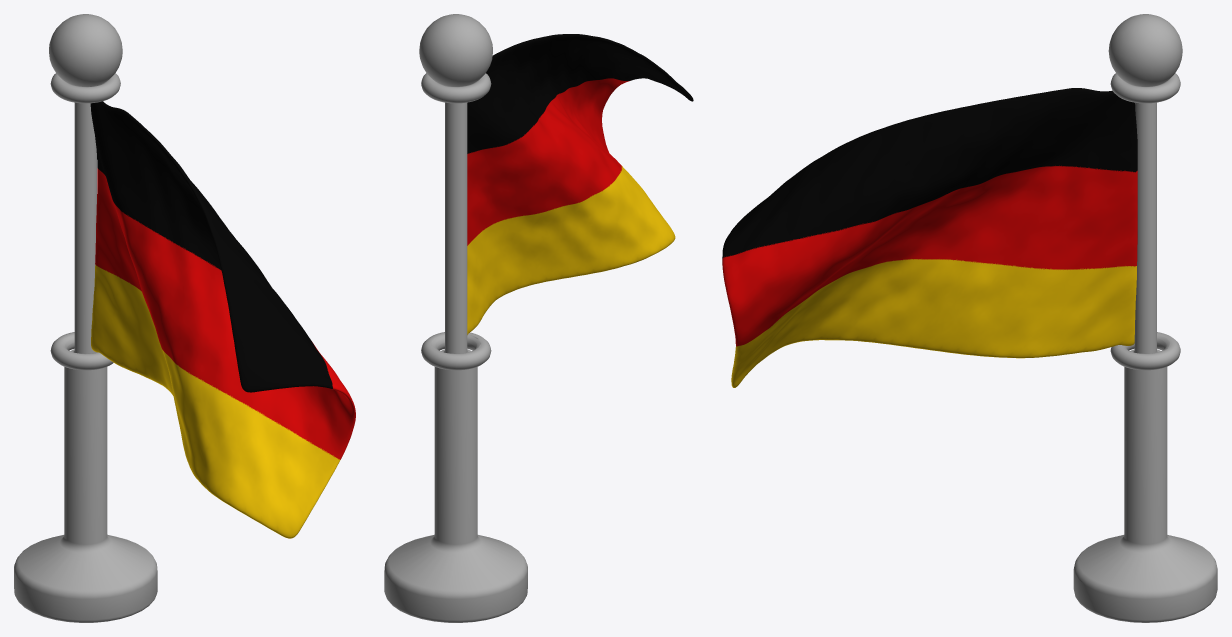
The picture shows the model from 3 angles, left to right: view 1: azimuth 30°, elevation 25°; view 2: azimuth 150°, elevation 25°; view 3: azimuth 270°, elevation 25°; orthographic projection.
Parts seen in each view (by area): view 1: Flag ShapeKeys_2_4, Circle, Sphere, Torus.002, Torus.001; view 2: Flag ShapeKeys_2_4, Circle, Sphere, Torus.001, Torus.002; view 3: Flag ShapeKeys_2_4, Circle, Sphere, Torus.001, Torus.002.
Part boxes in pixels (x1,y1,x2,y2): Flag ShapeKeys_2_4: [90, 101, 355, 538]; Circle: [14, 102, 157, 622]; Sphere: [49, 14, 122, 86]; Torus.002: [50, 73, 120, 103]; Torus.001: [50, 332, 113, 370]; Flag ShapeKeys_2_4: [467, 34, 693, 334]; Circle: [384, 102, 527, 622]; Sphere: [419, 14, 492, 86]; Torus.001: [421, 332, 491, 370]; Torus.002: [421, 73, 491, 103]; Flag ShapeKeys_2_4: [722, 88, 1137, 387]; Circle: [1073, 102, 1217, 622]; Sphere: [1108, 14, 1182, 86]; Torus.001: [1110, 332, 1180, 370]; Torus.002: [1110, 73, 1180, 103].
Size of the model in its own units: 0.9476 by 4.15 by 3.23.
3 materials, 1 textured.
